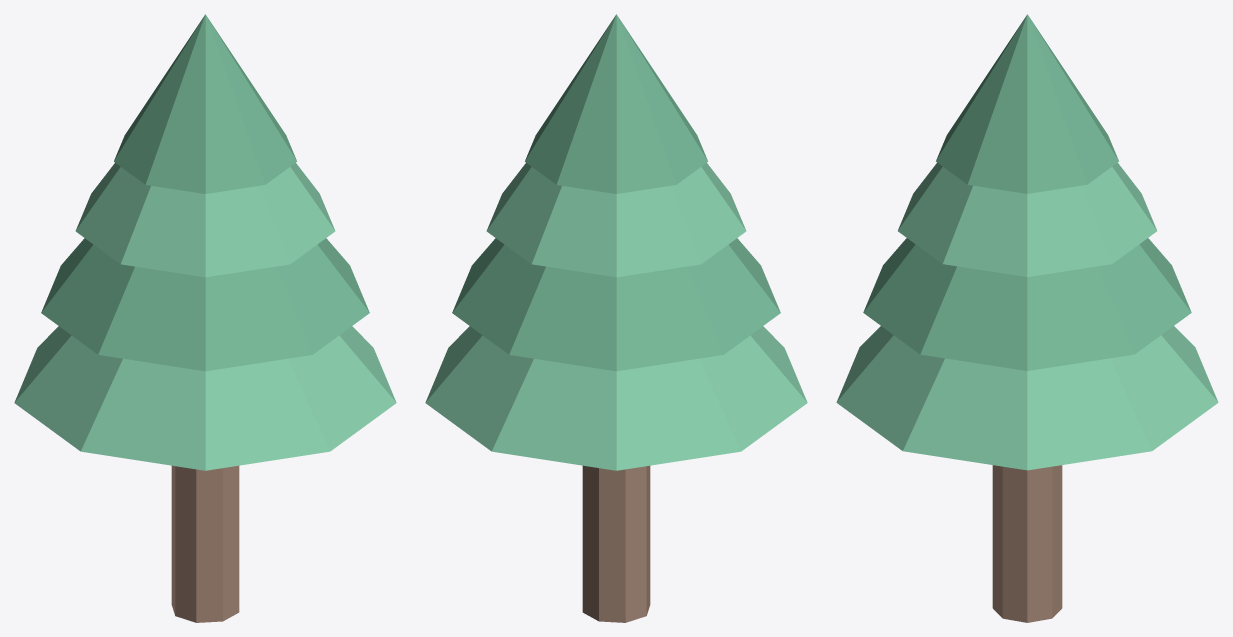
The model's file is tree_pine.glb.
3 views of the same model, side by side, from view 1: azimuth 30°, elevation 25°; view 2: azimuth 150°, elevation 25°; view 3: azimuth 270°, elevation 25° (orthographic).
Parts seen in each view (by area): view 1: tree_pine_1, tree_pine_2, tree_pine_3, tree_pine_4, tree_pine_0; view 2: tree_pine_1, tree_pine_2, tree_pine_3, tree_pine_4, tree_pine_0; view 3: tree_pine_1, tree_pine_2, tree_pine_3, tree_pine_4, tree_pine_0.
Part boxes in pixels (bbox=[...]): tree_pine_1: bbox=[14, 326, 396, 470]; tree_pine_2: bbox=[41, 238, 369, 371]; tree_pine_3: bbox=[75, 163, 335, 277]; tree_pine_4: bbox=[114, 14, 296, 193]; tree_pine_0: bbox=[171, 465, 239, 622]; tree_pine_1: bbox=[425, 326, 807, 470]; tree_pine_2: bbox=[452, 238, 780, 371]; tree_pine_3: bbox=[486, 163, 746, 277]; tree_pine_4: bbox=[525, 14, 707, 193]; tree_pine_0: bbox=[582, 465, 650, 622]; tree_pine_1: bbox=[836, 326, 1218, 470]; tree_pine_2: bbox=[863, 238, 1191, 370]; tree_pine_3: bbox=[898, 162, 1156, 276]; tree_pine_4: bbox=[936, 14, 1118, 193]; tree_pine_0: bbox=[992, 465, 1062, 622].
Size of the model in its own units: 1.94 by 3.38 by 1.97.
